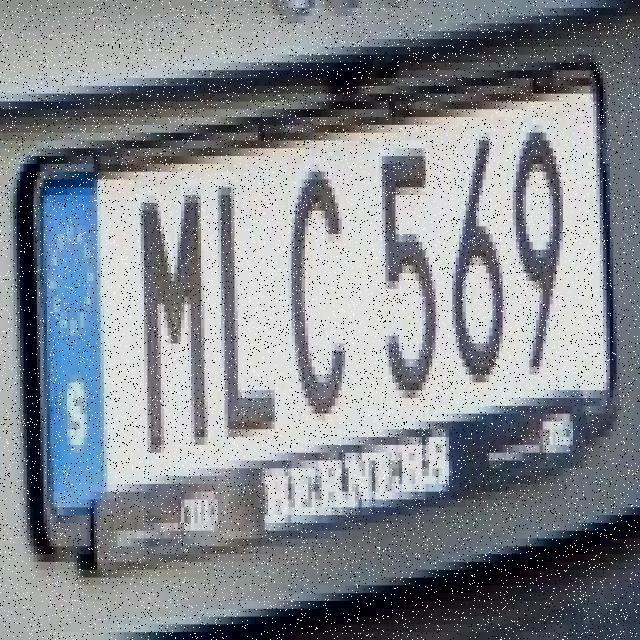LicensePlate: (15, 34, 627, 604)
